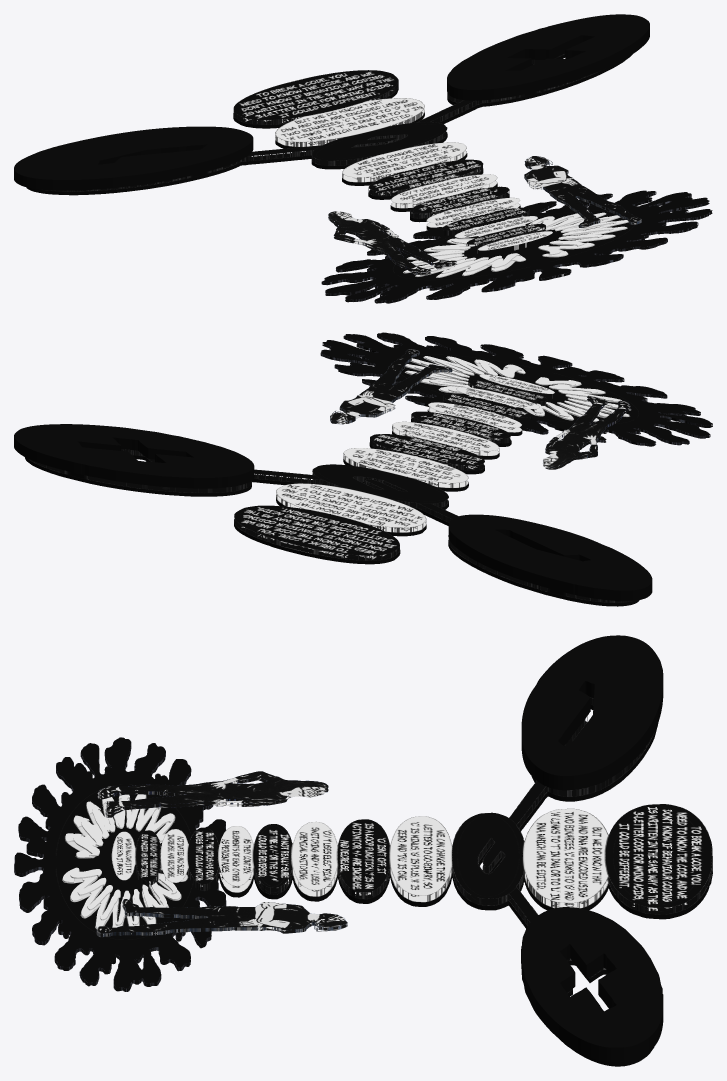
Rendered from Nodess.fbx.
3 renders of one model, top to bottom at view 1: azimuth 30°, elevation 25°; view 2: azimuth 150°, elevation 25°; view 3: azimuth 270°, elevation 25°, orthographic. The views are drawn at different scales.
Parts seen in each view (by area): view 1: Text_discs, Curve.001, Virus, Text_discs.001, D1, D2, Curve, Curve.020; view 2: Text_discs, Curve.001, Virus, Text_discs.001, D1, D2, Curve, Curve.020; view 3: Text_discs, Curve.001, Virus, D1, D2, Text_discs.001, Curve, Curve.020.
Boxes of the visible parts, x1=… form: Text_discs: x1=42, y1=53, x2=597, y2=253; Curve.001: x1=14, y1=14, x2=649, y2=190; Virus: x1=321, y1=190, x2=712, y2=303; Text_discs.001: x1=26, y1=54, x2=632, y2=229; D1: x1=524, y1=156, x2=641, y2=227; D2: x1=328, y1=211, x2=457, y2=275; Curve: x1=411, y1=215, x2=616, y2=273; Curve.020: x1=403, y1=212, x2=628, y2=277; Text_discs: x1=29, y1=374, x2=631, y2=602; Curve.001: x1=14, y1=424, x2=652, y2=601; Virus: x1=320, y1=332, x2=712, y2=446; Text_discs.001: x1=25, y1=410, x2=639, y2=606; D1: x1=330, y1=349, x2=452, y2=424; D2: x1=542, y1=395, x2=630, y2=469; Curve: x1=414, y1=359, x2=618, y2=417; Curve.020: x1=405, y1=356, x2=629, y2=421; Text_discs: x1=111, y1=697, x2=712, y2=992; Curve.001: x1=521, y1=635, x2=663, y2=1061; Virus: x1=14, y1=737, x2=226, y2=991; D1: x1=96, y1=899, x2=347, y2=937; D2: x1=97, y1=771, x2=328, y2=817; Text_discs.001: x1=217, y1=704, x2=712, y2=1066; Curve: x1=70, y1=794, x2=176, y2=925; Curve.020: x1=63, y1=794, x2=181, y2=928.
Bounding box in the file's own units: 671 × 19.38 × 481.
Materials: 8 (5 with a texture image).
